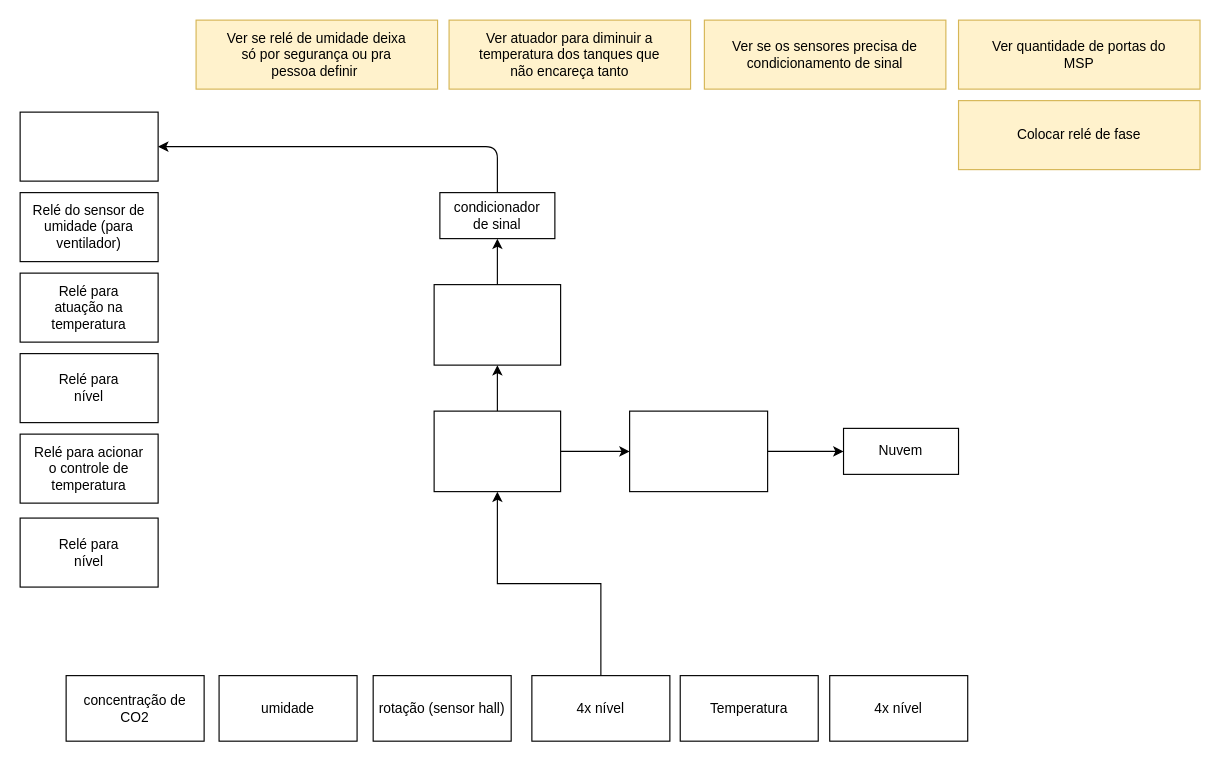
Some shapes in this 1220 by 761 pixel diagram are drawn without their labels. The centre of each missing label's shape, as x and y in pixels:
MSP: pixel 497 324
Rasp 3B+: pixel 698 451
Relé para ligar o ventilador: pixel 88 146
Resp 3B: pixel 497 451
